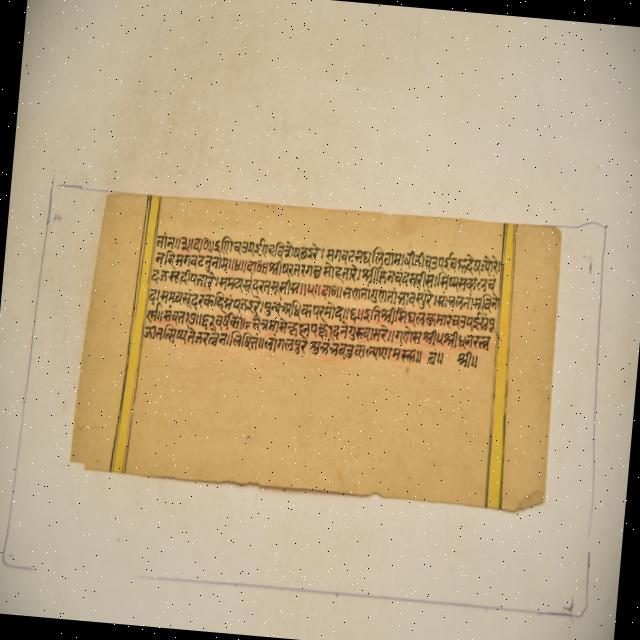text_paragraph: (72, 183, 558, 511)
